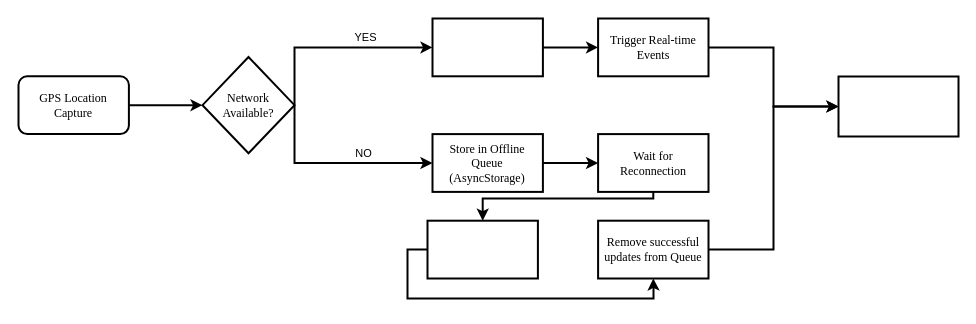
Some shapes in this 976 by 324 pixel diagram are drawn without their labels. Here are the shapes that lost their labels. From the top down, the centre of each, then its label:
[487,47]: Send directly to Supabase DB
[898,106]: Admin & Passenger Apps receive Real-time updates
[482,249]: Process Queue (FIFO Order)
